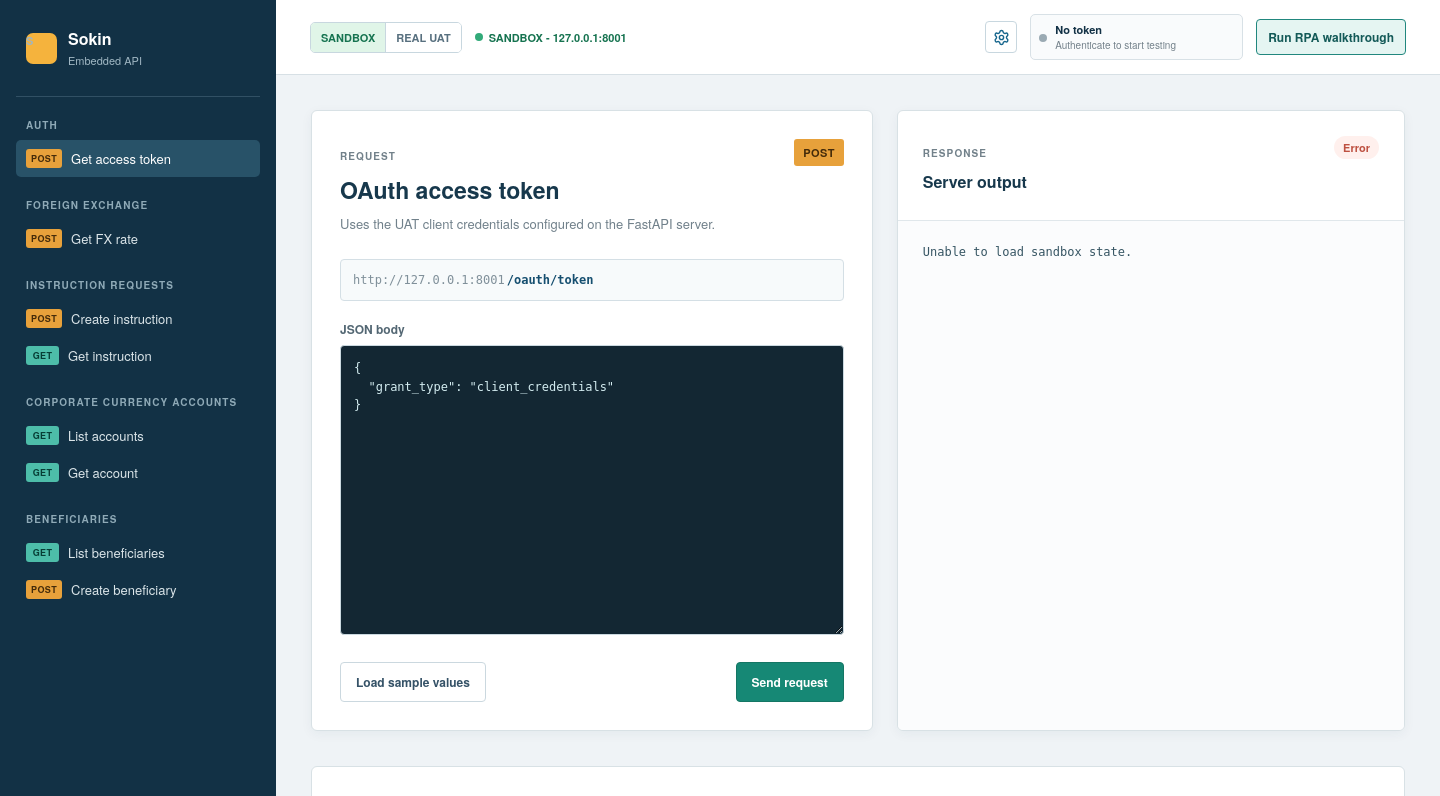
App › sendRequest extracts .detail from JSON error bodies
Click the button "Send request". click: click(790, 682)
box: [736,662,844,702]
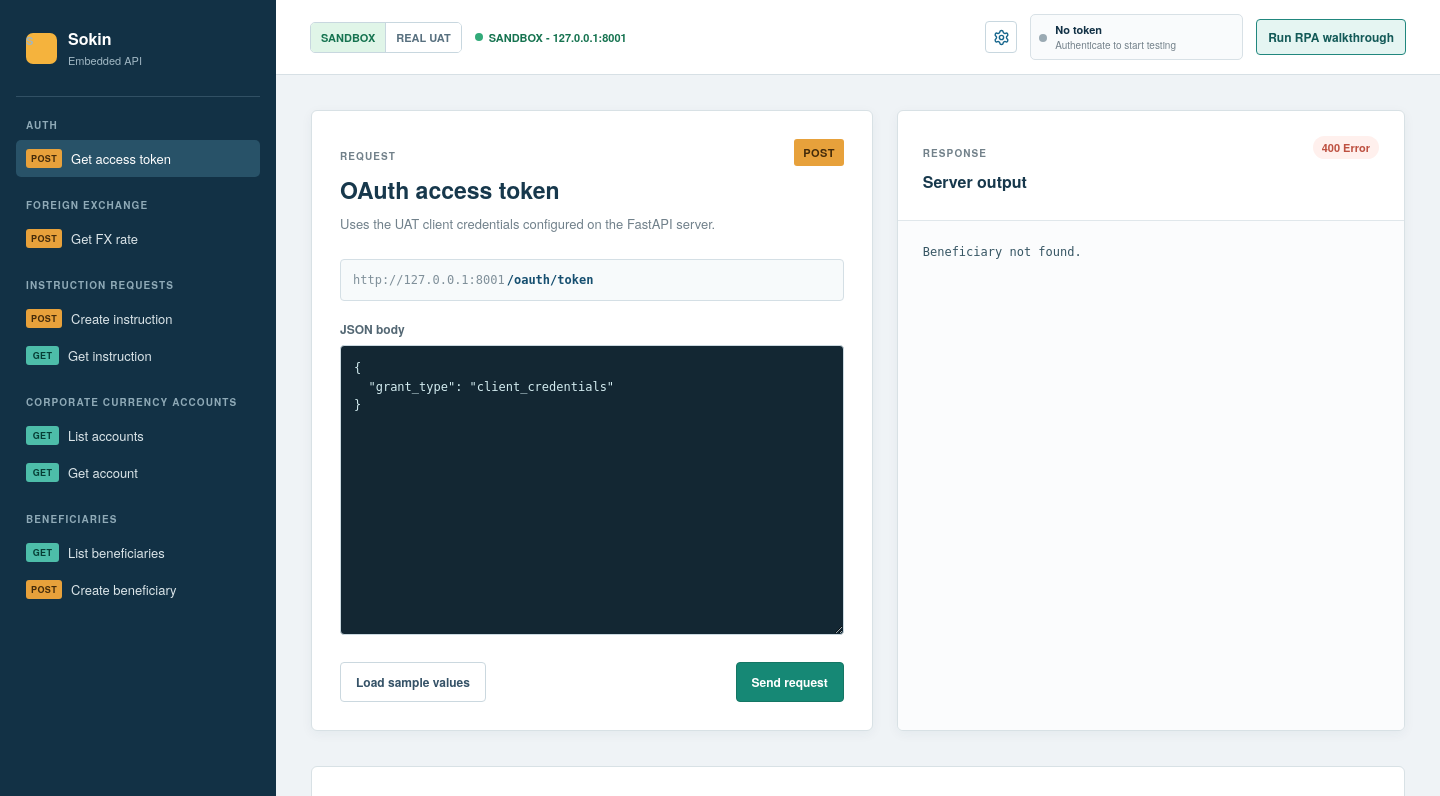
Expected: the text "Beneficiary not found." is shown, [898,221,1404,730]
